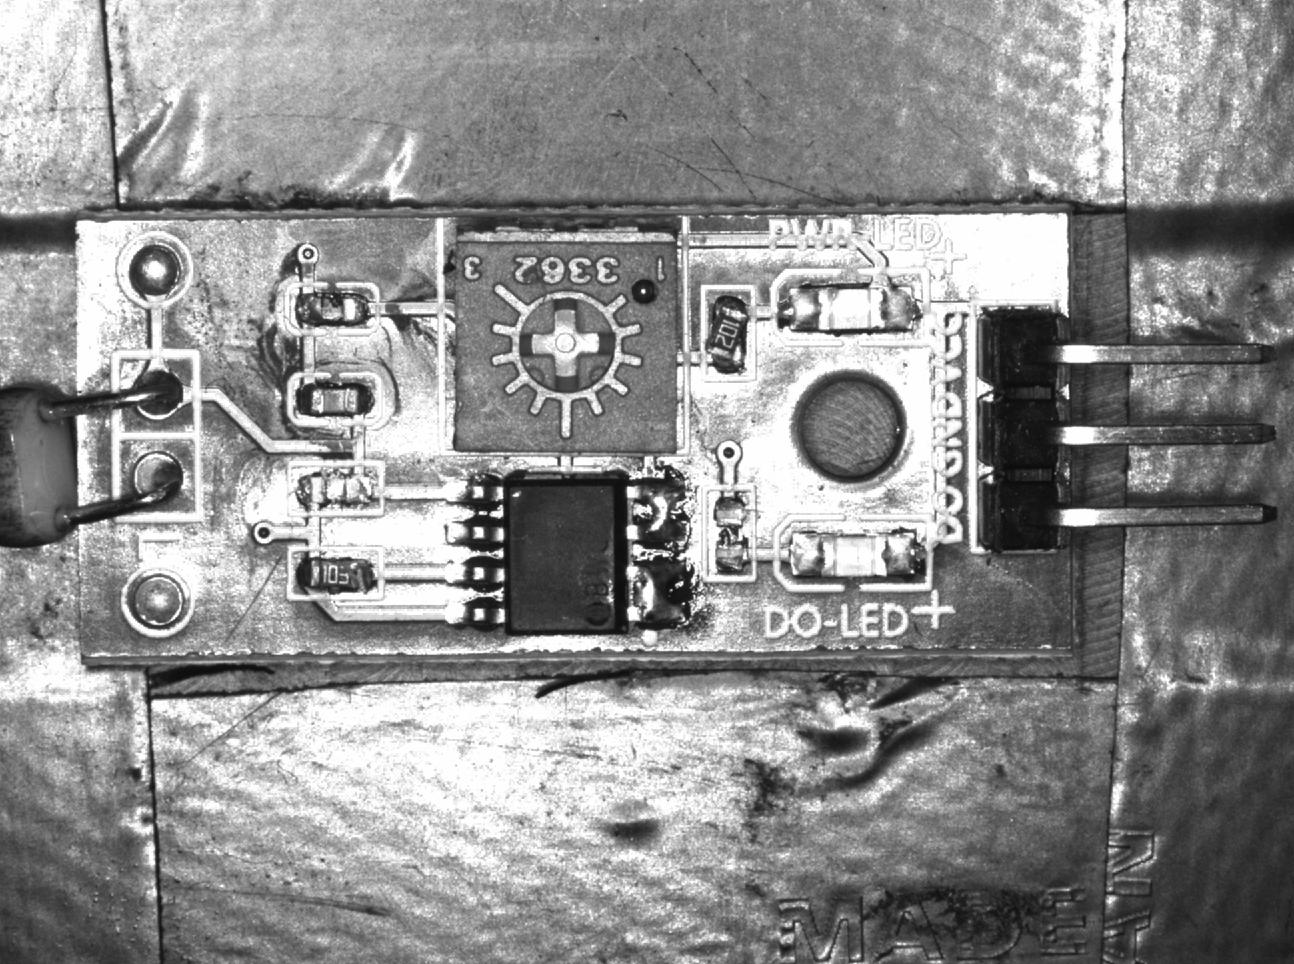bridge: (626, 555, 695, 634), (630, 478, 694, 547)
lifted: (700, 283, 756, 384)
miss: (705, 484, 758, 583), (288, 461, 383, 516), (286, 282, 381, 335)
ok: (286, 373, 384, 428), (289, 548, 382, 597)
